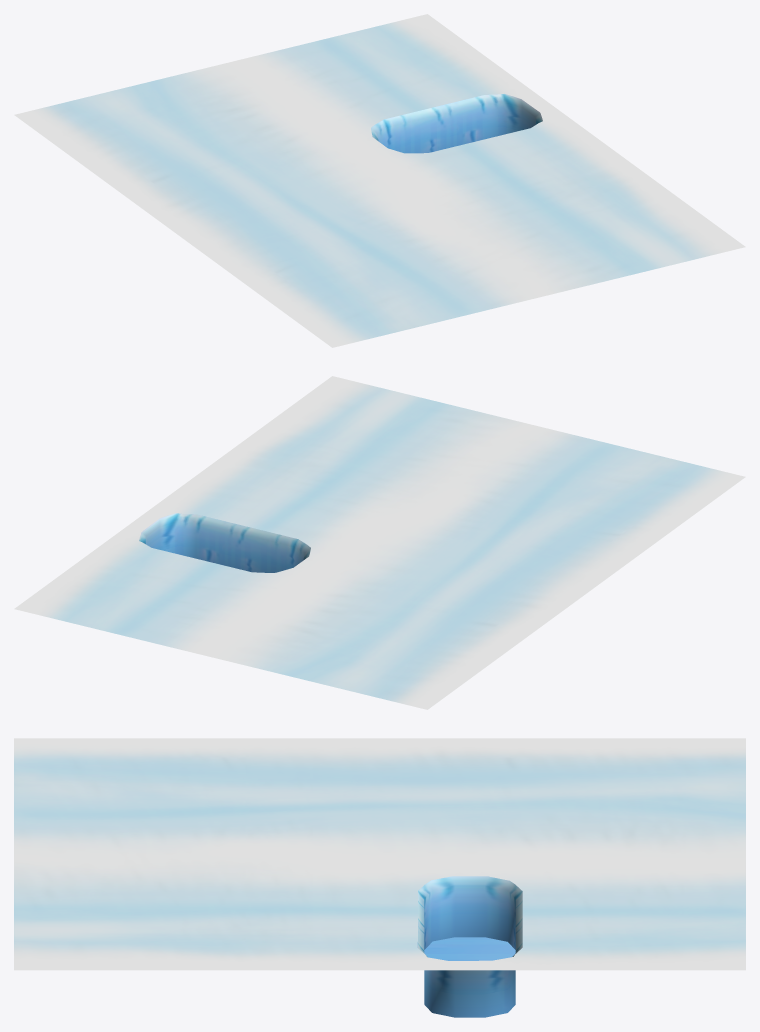
Rendered from Hole_M_02_R.FBX.
3 renders of one model, top to bottom at view 1: azimuth 30°, elevation 25°; view 2: azimuth 150°, elevation 25°; view 3: azimuth 270°, elevation 25°, orthographic. The views are drawn at different scales.
Parts seen in each view (by area): view 1: modelRoad080; view 2: modelRoad080; view 3: modelRoad080.
Boxes of the visible parts, left/top/right/bottom form: modelRoad080: left=14, top=14, right=745, bottom=347; modelRoad080: left=14, top=376, right=745, bottom=709; modelRoad080: left=14, top=738, right=745, bottom=1017.
Size of the model in its own units: 600 by 70 by 800.
